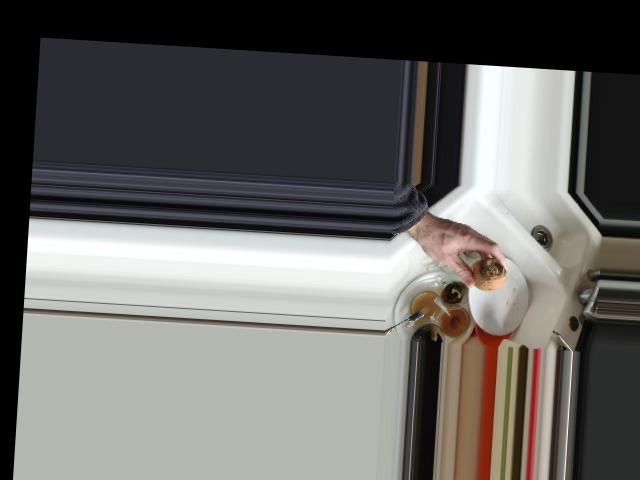sweet_potato: (462, 254, 509, 293)
